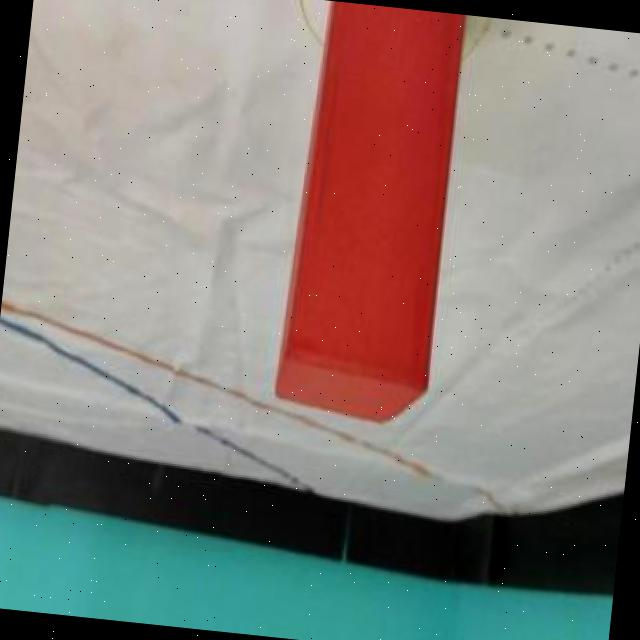redbox: (273, 0, 467, 429)
